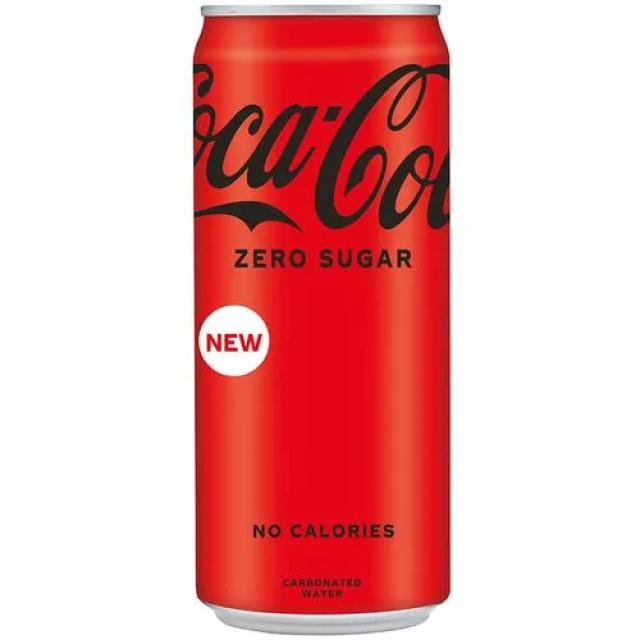aluminum_can: (195, 5, 451, 634)
